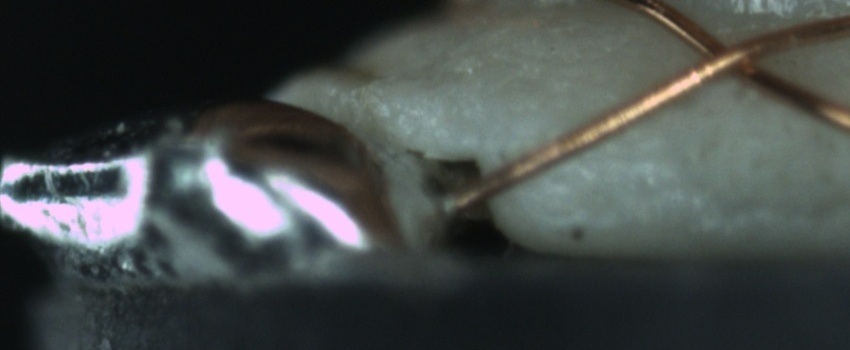CL: (678, 28, 777, 89)
